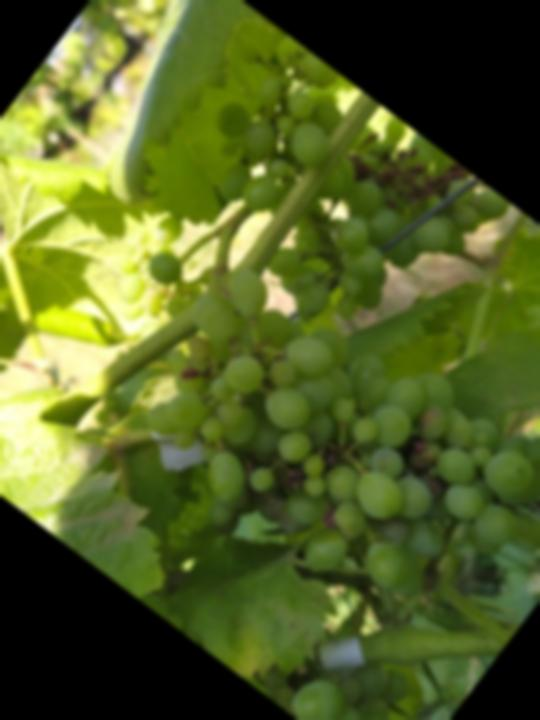grape: (89, 211, 540, 700), (126, 0, 532, 380)
